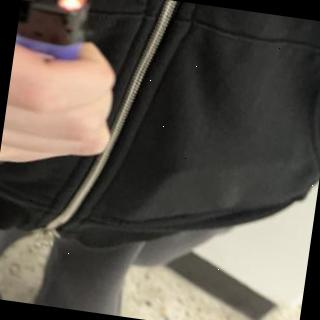fire: (55, 0, 88, 14)
